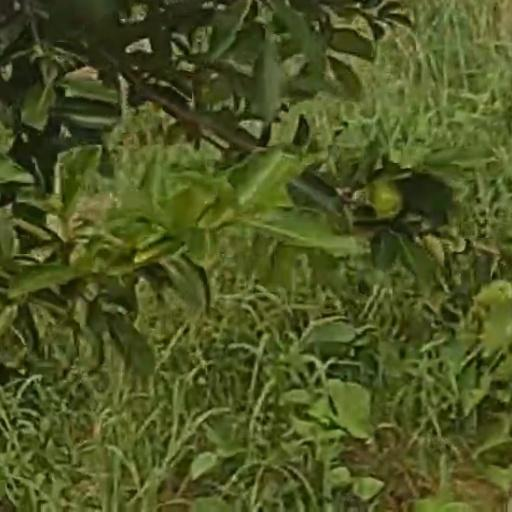acerola_verde: (372, 180, 402, 220)
